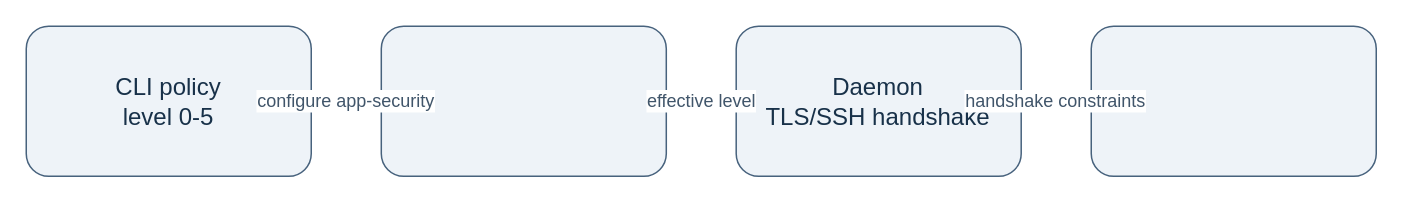
The diagram is 1403 pixels wide and 203 high, and some of its shapes have lost their labels. The shapes that lost their labels are listed below. From the top down, each one's centre as x and y in pixels, then its label:
At pixel 523 100: "Default + named application level".
At pixel 1233 100: "Remote peer protocol negotiation".
